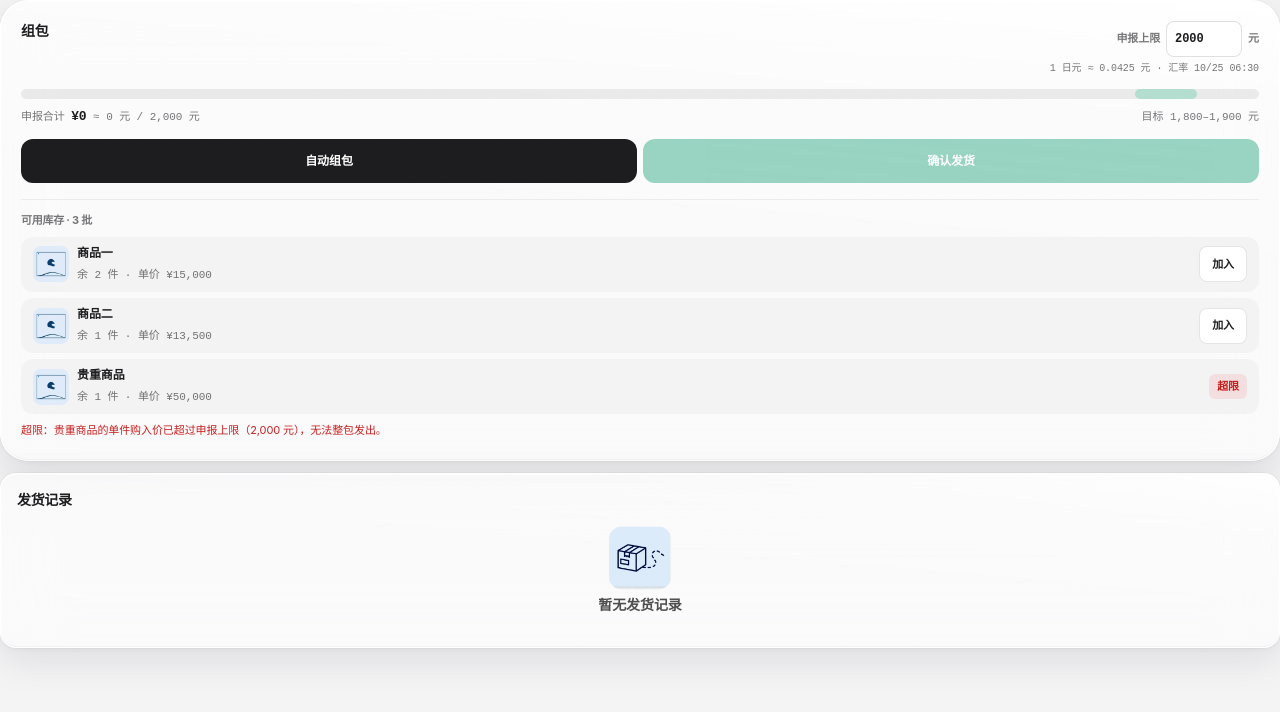
Test: ShippingWorkspace › auto-packs into the CNY band and posts the rate and CNY total
This screenshot has width=1280, height=712.
Expected: the field named "申报上限" is enabled, [1166,21,1242,57]
Expected: the field named "申报上限" holds "2000", [1166,21,1242,57]
Click the button "自动组包". click: (329, 161)
box: [21,139,637,183]
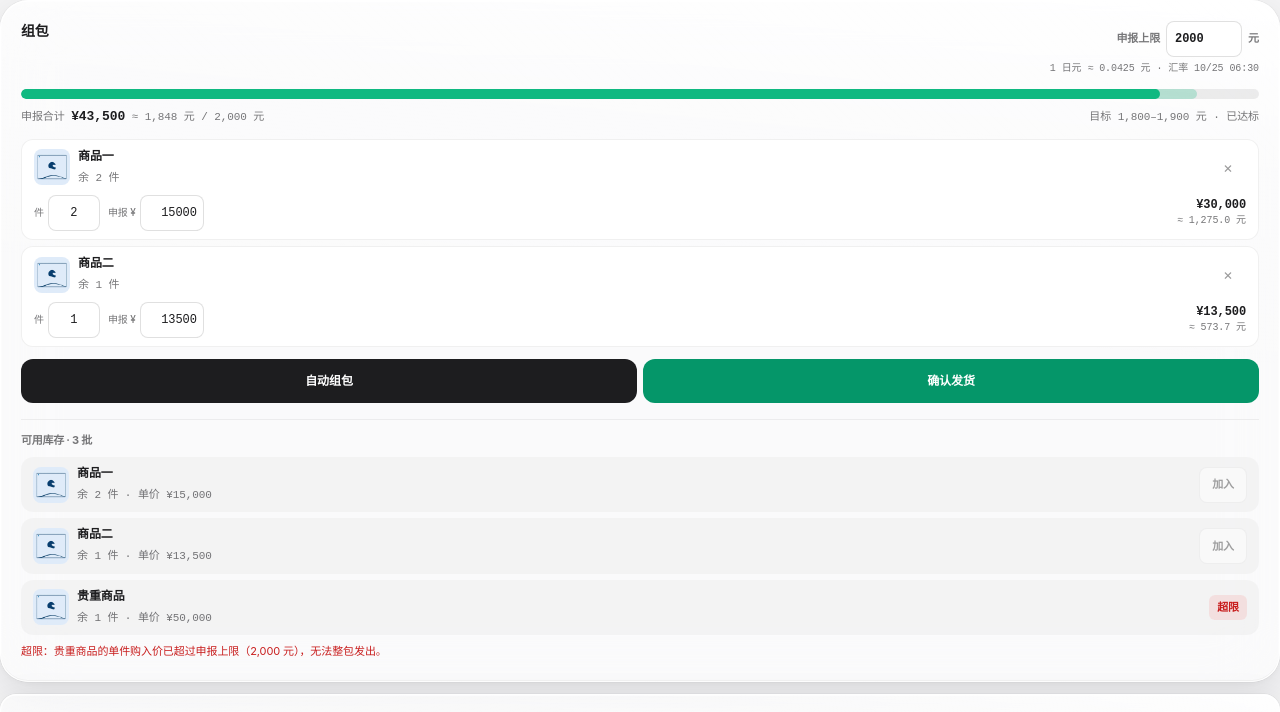
Result: the text "¥43,500" is shown at [71,108,125,124]
Result: the text "1,848 元" is shown at [145,110,195,122]
Result: the text "已达标" is shown at [1207,110,1259,122]
Click the button "确认发货". click: (951, 381)
box: [643,359,1259,403]
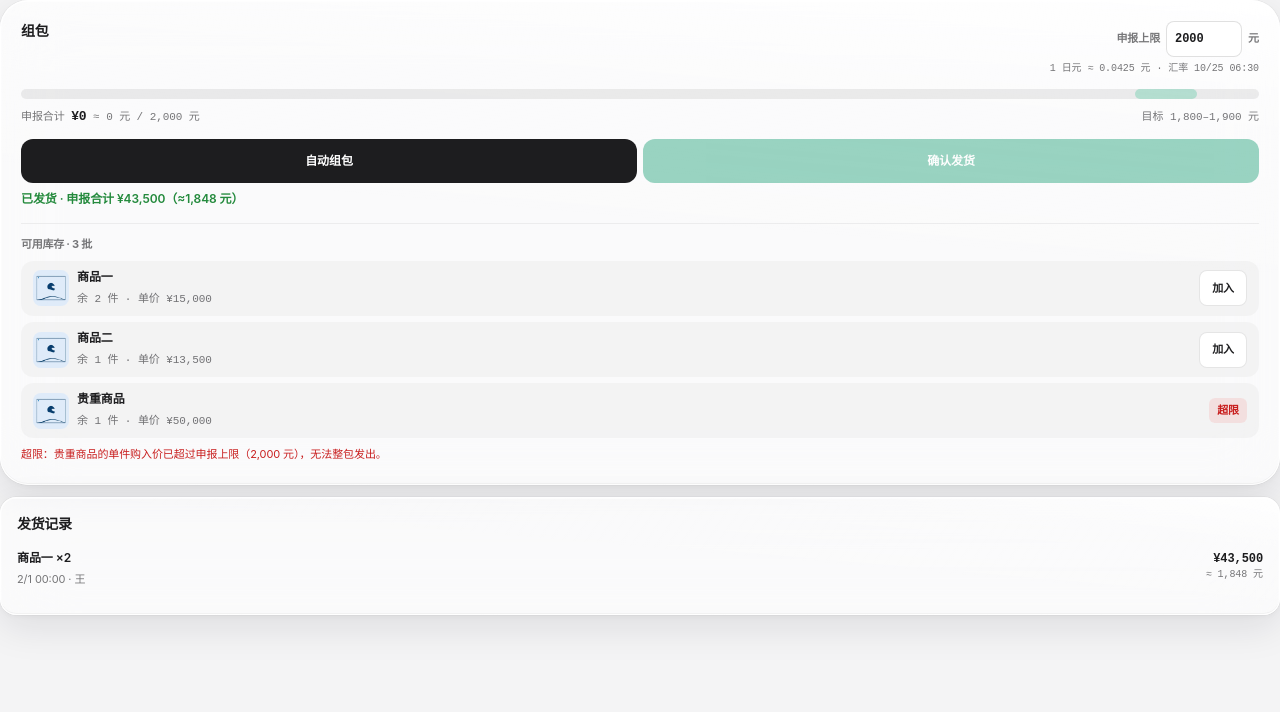
Result: the text "≈ 1,848 元" is shown at [1206,567,1263,583]
Result: the text "已发货" is shown at [21,191,244,206]
Result: the text "≈1,848 元" is shown at [21,191,244,206]
